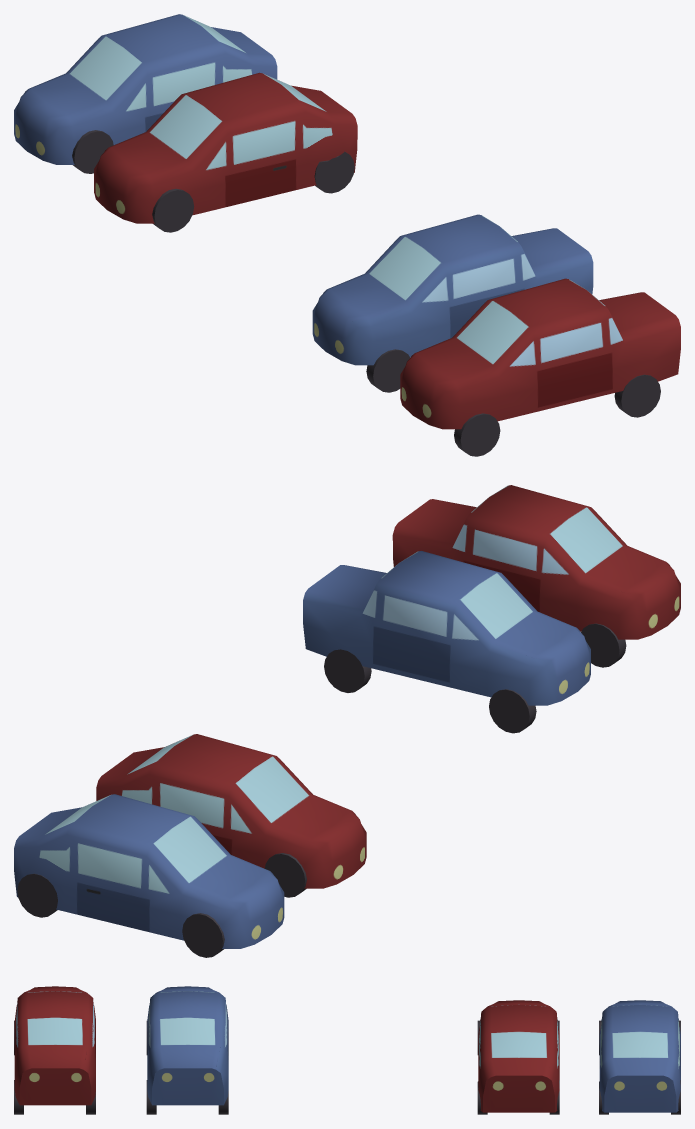
File: STAGE3_TUTURS.FBX
3 renders of one model, top to bottom at view 1: azimuth 30°, elevation 25°; view 2: azimuth 150°, elevation 25°; view 3: azimuth 270°, elevation 25°, orthographic. The views are drawn at different scales.
Parts seen in each view (by area): view 1: Box005, Box003, Box002, Box004; view 2: Box002, Box004, Box005, Box003; view 3: Box002, Box005, Box003, Box004.
Part boxes in pixels (x1,y1,x2,y2): Box005: [400, 278, 680, 456]; Box003: [94, 72, 357, 232]; Box002: [312, 214, 593, 392]; Box004: [14, 14, 277, 173]; Box002: [303, 551, 590, 733]; Box004: [14, 794, 284, 957]; Box005: [392, 485, 680, 667]; Box003: [96, 734, 366, 897]; Box002: [146, 986, 228, 1114]; Box005: [14, 986, 95, 1114]; Box003: [477, 1000, 559, 1114]; Box004: [599, 1000, 680, 1114].
Size of the model in its own units: 5.31 by 2.32 by 16.39.
